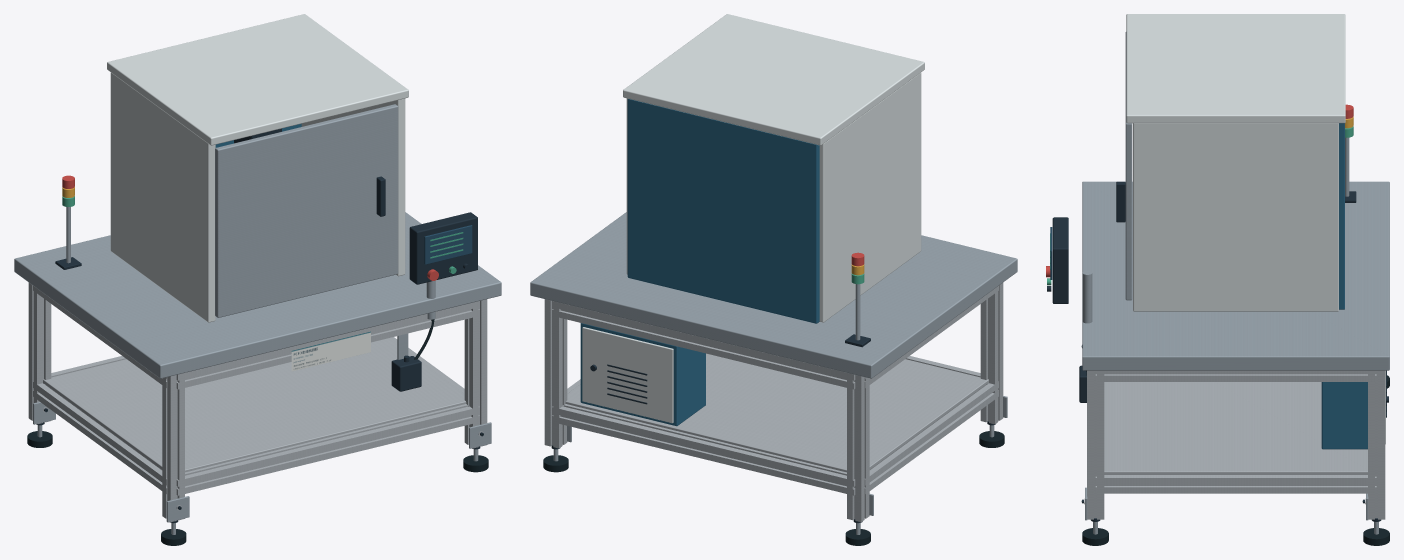
The model's file is pcb-xray-cell.glb.
The picture shows the model from 3 angles, left to right: view 1: azimuth 30°, elevation 25°; view 2: azimuth 150°, elevation 25°; view 3: azimuth 270°, elevation 25°; orthographic projection. The views are drawn at different scales.
Parts seen in each view (by area): view 1: DoorFrame_75, LowerShelf_41, ClosedMachineBed_40, ClosedRoof_74, EnclosureSide_71, SlottedExtrusion_34, SlottedExtrusion_35, SlottedExtrusion_11, SlottedExtrusion_36, ConsoleBack_52, SlottedExtrusion_27, SlottedExtrusion_3 (+5 smaller); view 2: ClosedBack_73, ClosedMachineBed_40, ClosedRoof_74, LowerShelf_41, EnclosureSide_71, BackDoor_43, SlottedExtrusion_32, SlottedExtrusion_33, SlottedExtrusion_3, SlottedExtrusion_19, Cabinet_42, SlottedExtrusion_36 (+2 smaller); view 3: EnclosureSide_72, ClosedMachineBed_40, ClosedRoof_74, LowerShelf_41, SlottedExtrusion_38, SlottedExtrusion_39, Cabinet_42, SlottedExtrusion_27, SlottedExtrusion_19, DoorFrame_75, ConsoleBack_52, ClosedBack_73 (+1 smaller).
Boxes of the visible parts, left/top/right/bottom form: DoorFrame_75: left=215, top=104, right=398, bottom=317; LowerShelf_41: left=43, top=338, right=466, bottom=472; ClosedMachineBed_40: left=14, top=212, right=501, bottom=378; ClosedRoof_74: left=107, top=14, right=408, bottom=145; EnclosureSide_71: left=110, top=72, right=215, bottom=322; SlottedExtrusion_34: left=176, top=404, right=479, bottom=495; SlottedExtrusion_35: left=176, top=301, right=479, bottom=389; SlottedExtrusion_11: left=162, top=373, right=184, bottom=521; SlottedExtrusion_36: left=33, top=381, right=167, bottom=494; ConsoleBack_52: left=409, top=212, right=477, bottom=284; SlottedExtrusion_27: left=464, top=299, right=487, bottom=448; SlottedExtrusion_3: left=28, top=282, right=51, bottom=424; ClosedBack_73: left=627, top=99, right=819, bottom=323; ClosedMachineBed_40: left=530, top=212, right=1017, bottom=378; ClosedRoof_74: left=623, top=14, right=924, bottom=145; LowerShelf_41: left=565, top=353, right=988, bottom=472; EnclosureSide_71: left=819, top=72, right=921, bottom=322; BackDoor_43: left=582, top=327, right=673, bottom=423; SlottedExtrusion_32: left=552, top=404, right=855, bottom=495; SlottedExtrusion_33: left=552, top=301, right=855, bottom=389; SlottedExtrusion_3: left=847, top=374, right=869, bottom=521; SlottedExtrusion_19: left=544, top=299, right=567, bottom=448; Cabinet_42: left=580, top=323, right=705, bottom=426; SlottedExtrusion_36: left=864, top=381, right=998, bottom=494; EnclosureSide_72: left=1133, top=123, right=1338, bottom=311; ClosedMachineBed_40: left=1082, top=181, right=1389, bottom=370; ClosedRoof_74: left=1126, top=14, right=1345, bottom=123; LowerShelf_41: left=1104, top=382, right=1367, bottom=474; SlottedExtrusion_38: left=1095, top=475, right=1376, bottom=493; SlottedExtrusion_39: left=1095, top=370, right=1376, bottom=381; Cabinet_42: left=1321, top=382, right=1367, bottom=449; SlottedExtrusion_27: left=1087, top=370, right=1104, bottom=519; SlottedExtrusion_19: left=1368, top=370, right=1385, bottom=519; DoorFrame_75: left=1125, top=32, right=1132, bottom=300; ConsoleBack_52: left=1052, top=217, right=1068, bottom=303; ClosedBack_73: left=1339, top=123, right=1344, bottom=309.
Size of the model in its own units: 1.55 by 1.64 by 1.29.
11 materials, 3 textured.
